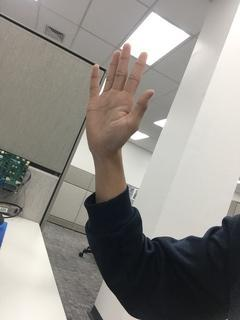hand: (85, 41, 154, 149)
